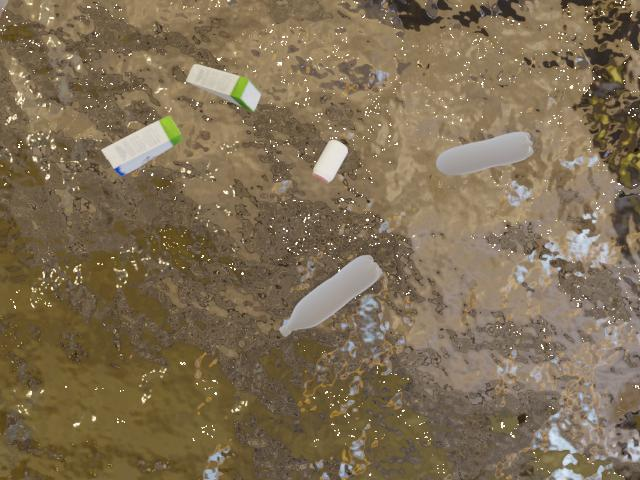Metal: (308, 135, 361, 192)
Plastic: (267, 244, 401, 343), (432, 125, 549, 195)
Trash: (99, 114, 189, 189), (183, 58, 275, 123)
